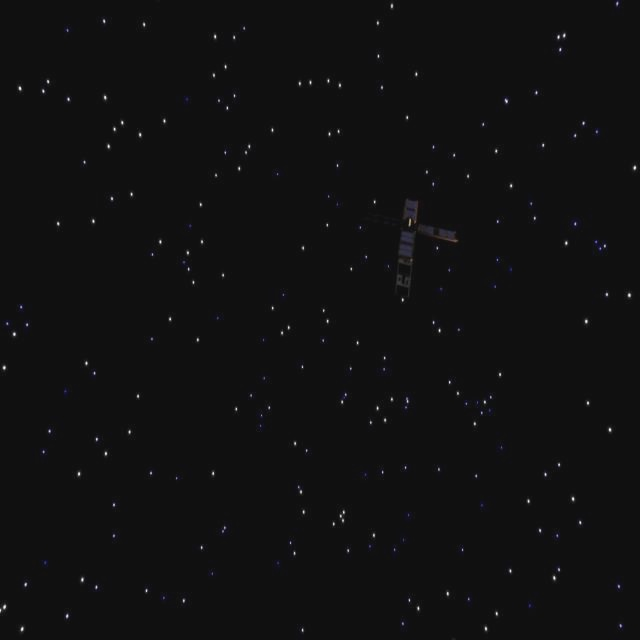satellite: (376, 194, 461, 298)
